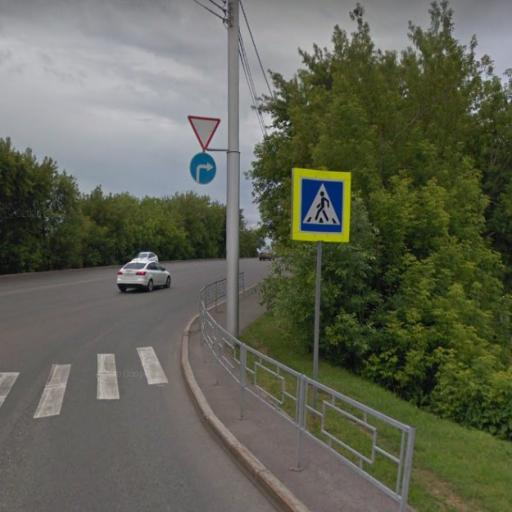traffic_sign: (291, 167, 352, 246), (187, 116, 224, 156)
